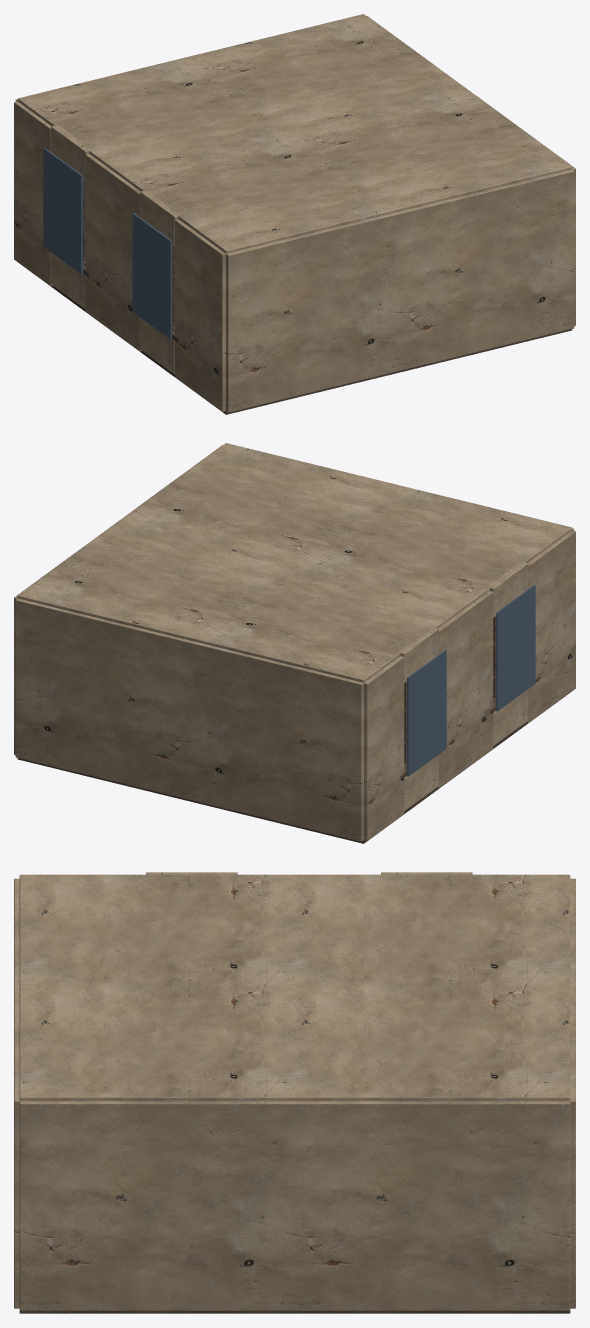
The model's file is laboratory.glb.
3 renders of one model, top to bottom at view 1: azimuth 30°, elevation 25°; view 2: azimuth 150°, elevation 25°; view 3: azimuth 270°, elevation 25°, orthographic. The views are drawn at different scales.
Visible parts, largest first — view 1: Curie_static_architecture_and_props; view 2: Curie_static_architecture_and_props; view 3: Curie_static_architecture_and_props.
Part boxes in pixels (box(x1,y1,x2,y2)): Curie_static_architecture_and_props: box(14, 14, 575, 414); Curie_static_architecture_and_props: box(14, 443, 575, 843); Curie_static_architecture_and_props: box(14, 872, 575, 1313).
Size of the model in its own units: 9.55 by 4.17 by 9.8.
Materials: 28 (21 with a texture image).
